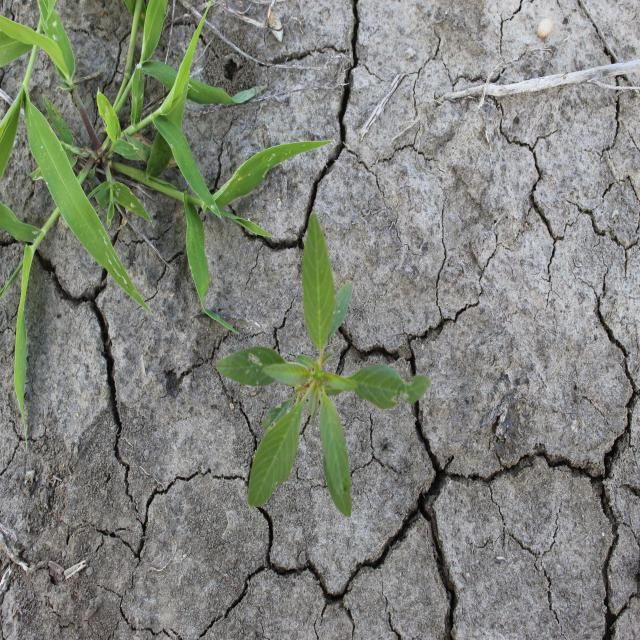Waterhemp: (214, 210, 434, 519)
